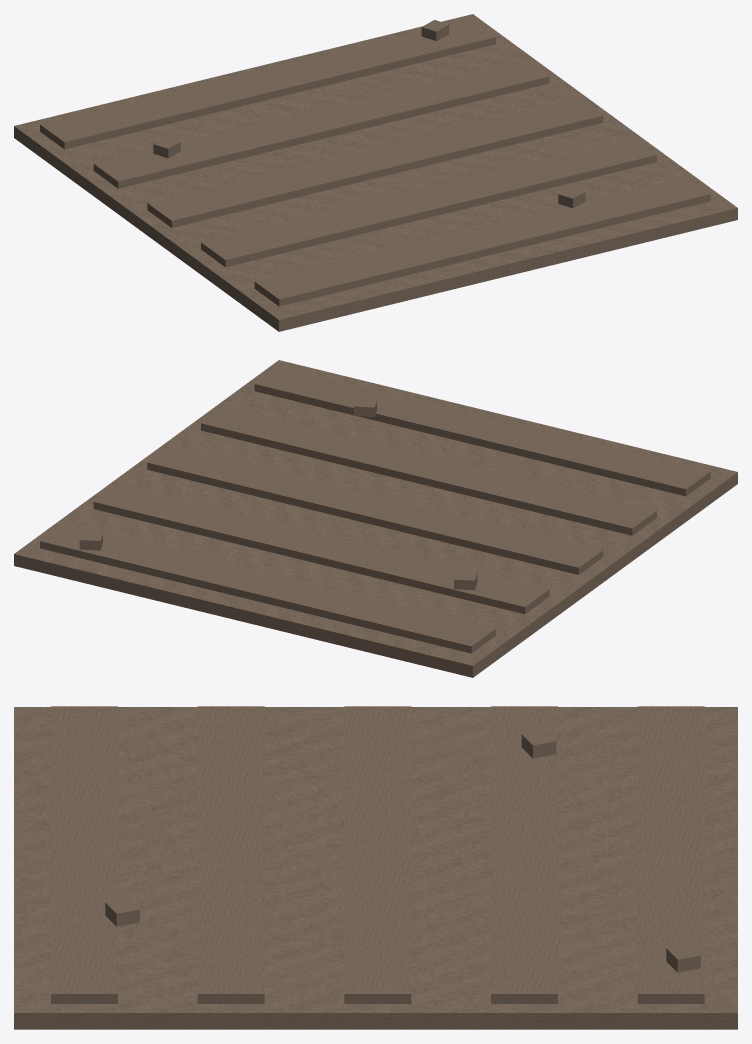
Rendered from allotments-and-community-garden-dug-earth-plot-tile-80677fdc__35130.glb.
The picture shows the model from 3 angles, top to bottom: view 1: azimuth 30°, elevation 25°; view 2: azimuth 150°, elevation 25°; view 3: azimuth 270°, elevation 25°; orthographic projection. The views are drawn at different scales.
Visible parts, largest first — view 1: dug-earth-plot-tile-soil; view 2: dug-earth-plot-tile-soil; view 3: dug-earth-plot-tile-soil.
Part boxes in pixels (bbox=[...]): dug-earth-plot-tile-soil: bbox=[14, 14, 737, 331]; dug-earth-plot-tile-soil: bbox=[14, 360, 737, 677]; dug-earth-plot-tile-soil: bbox=[14, 706, 737, 1029].
Size of the model in its own units: 4 by 0.2398 by 4.
Materials: 1 (1 with a texture image).
